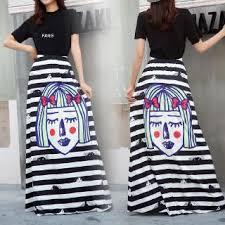Tshirt: (126, 5, 213, 65), (9, 4, 86, 58)
skirt: (126, 56, 225, 220), (18, 53, 115, 214)
